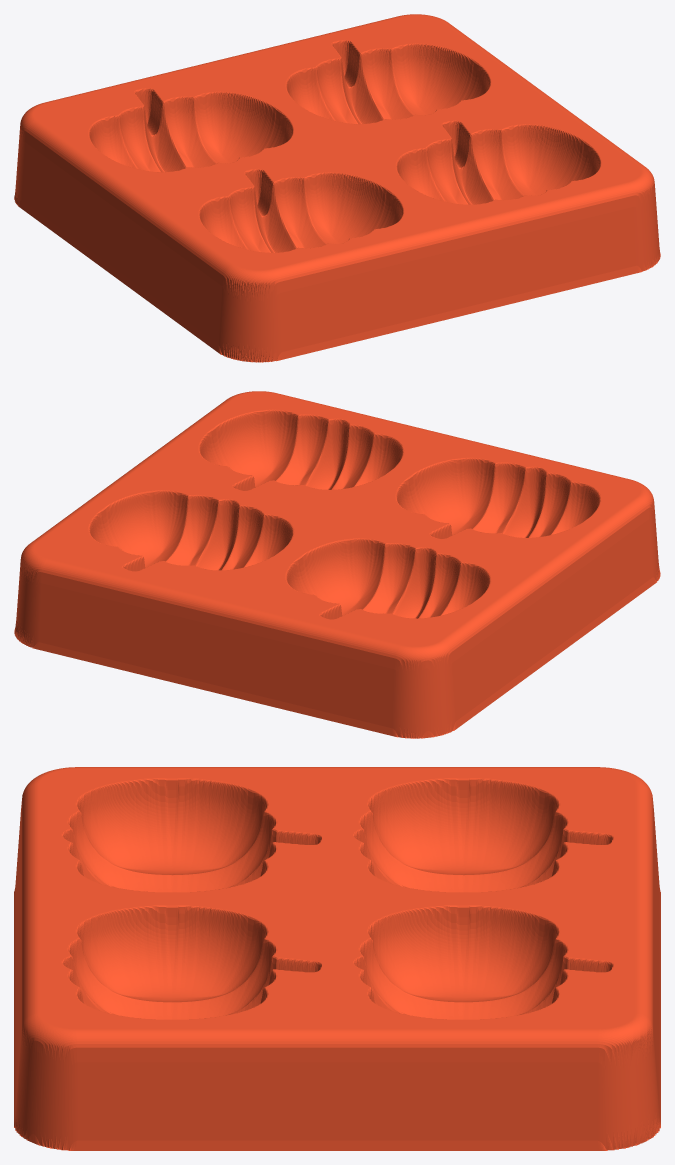
The model's file is mold.glb.
The picture shows the model from 3 angles, top to bottom: view 1: azimuth 30°, elevation 25°; view 2: azimuth 150°, elevation 25°; view 3: azimuth 270°, elevation 25°; orthographic projection. The views are drawn at different scales.
Visible parts, largest first — view 1: geometry_0; view 2: geometry_0; view 3: geometry_0.
Part boxes in pixels (bbox=[...]): geometry_0: bbox=[14, 14, 660, 362]; geometry_0: bbox=[14, 391, 660, 738]; geometry_0: bbox=[14, 767, 660, 1150].
Bounding box in the file's own units: 0.0952 × 0.0175 × 0.0924.
